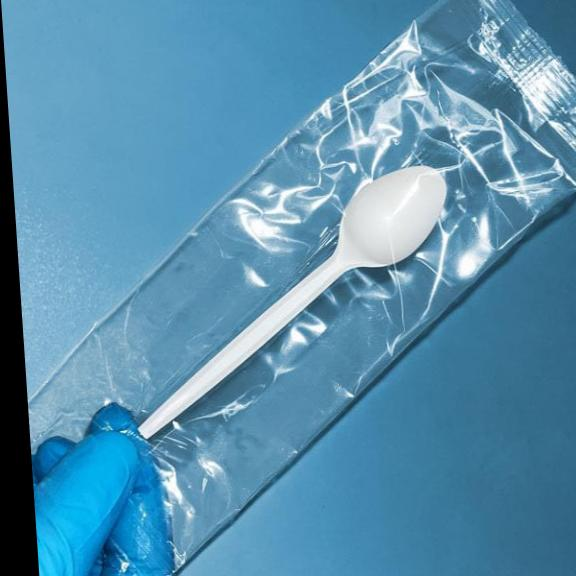Plastik: (139, 167, 445, 437)
